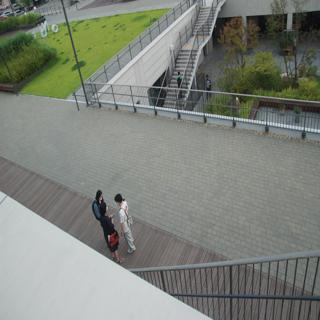person: (110, 186, 145, 254), (85, 181, 110, 233)
